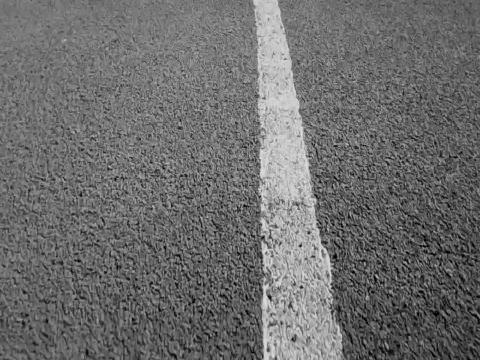Lines: (252, 0, 344, 360)
